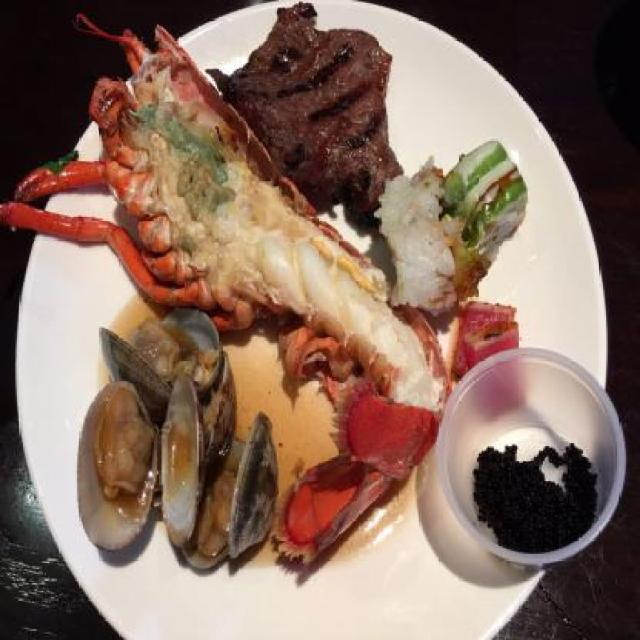mussels: (72, 315, 277, 580)
steak: (245, 5, 406, 193)
sushi: (388, 127, 523, 310)
